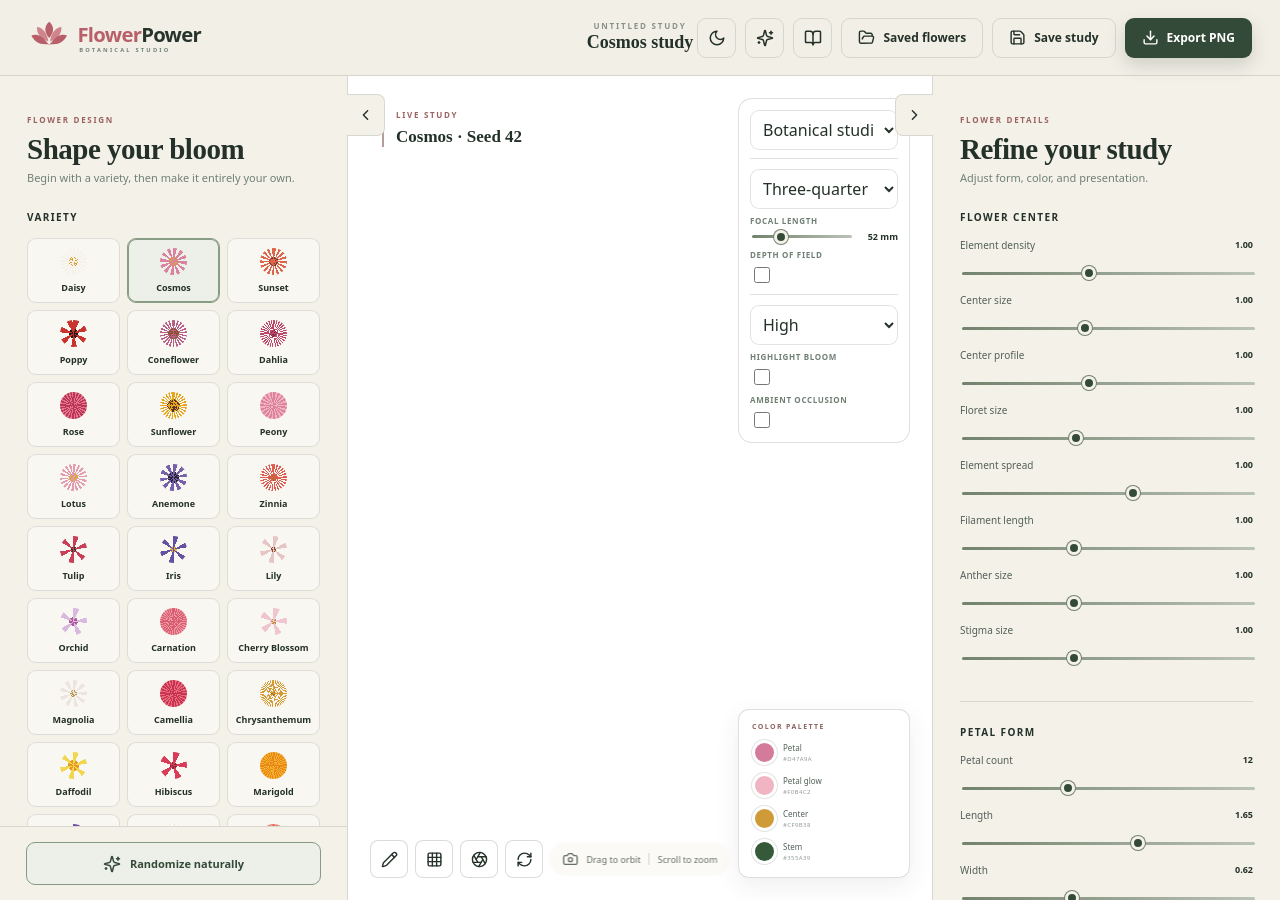
FlowerStudio › enables restrained photographic depth of field controls
Click the checkbox named "Enable depth of field" at (762, 275), box x1=754 y1=267 x2=770 y2=283
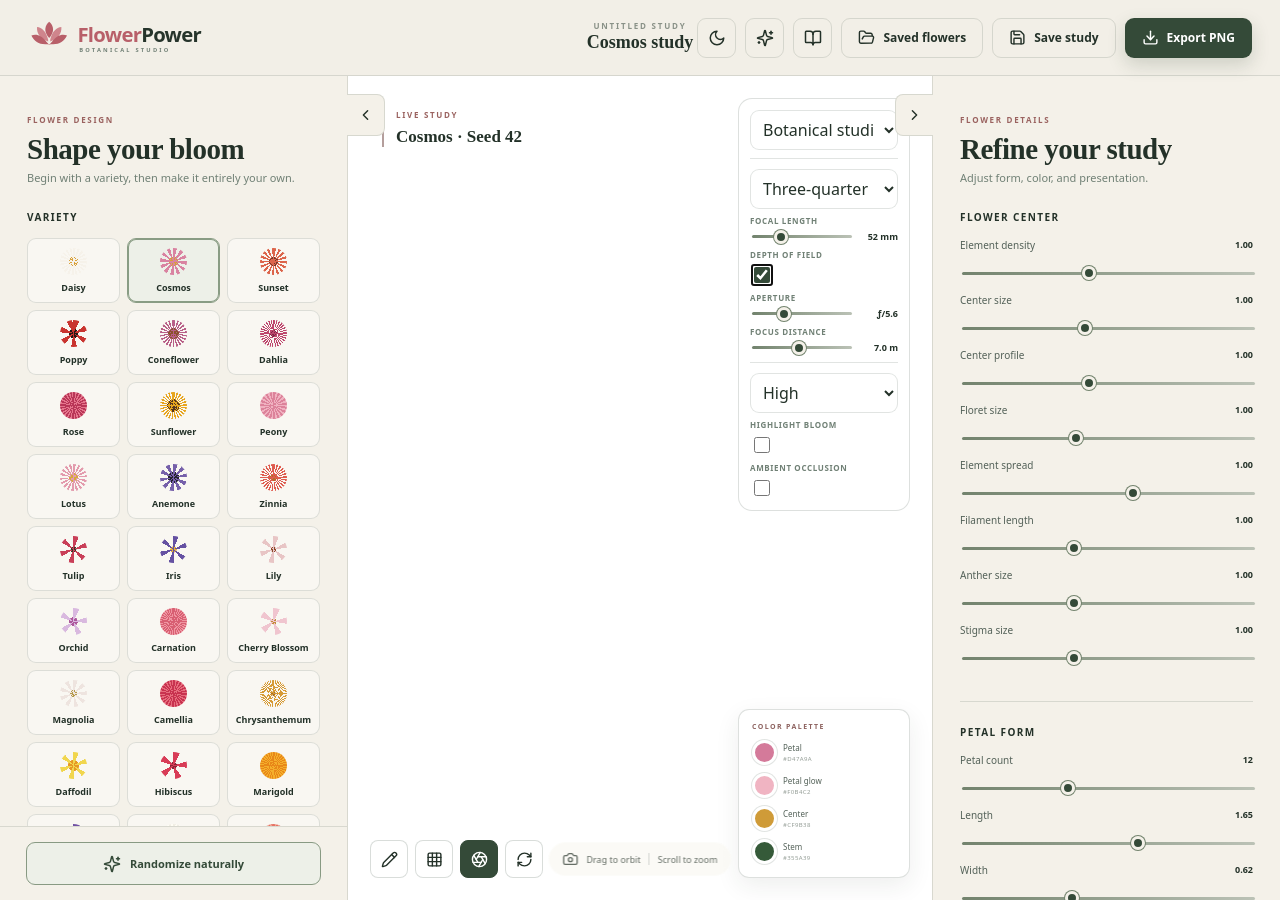
Check: the slider named "Camera aperture" holds "5.6", box x1=752 y1=312 x2=852 y2=315
Check: the slider named "Camera focus distance" holds "7", box x1=752 y1=346 x2=852 y2=349
